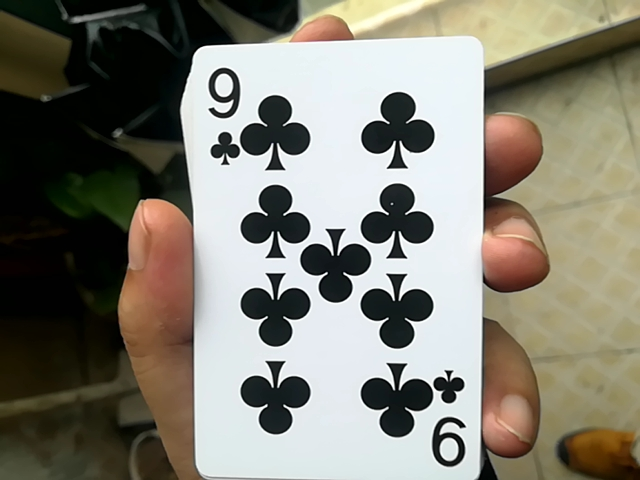mh 9: (167, 38, 486, 477)
